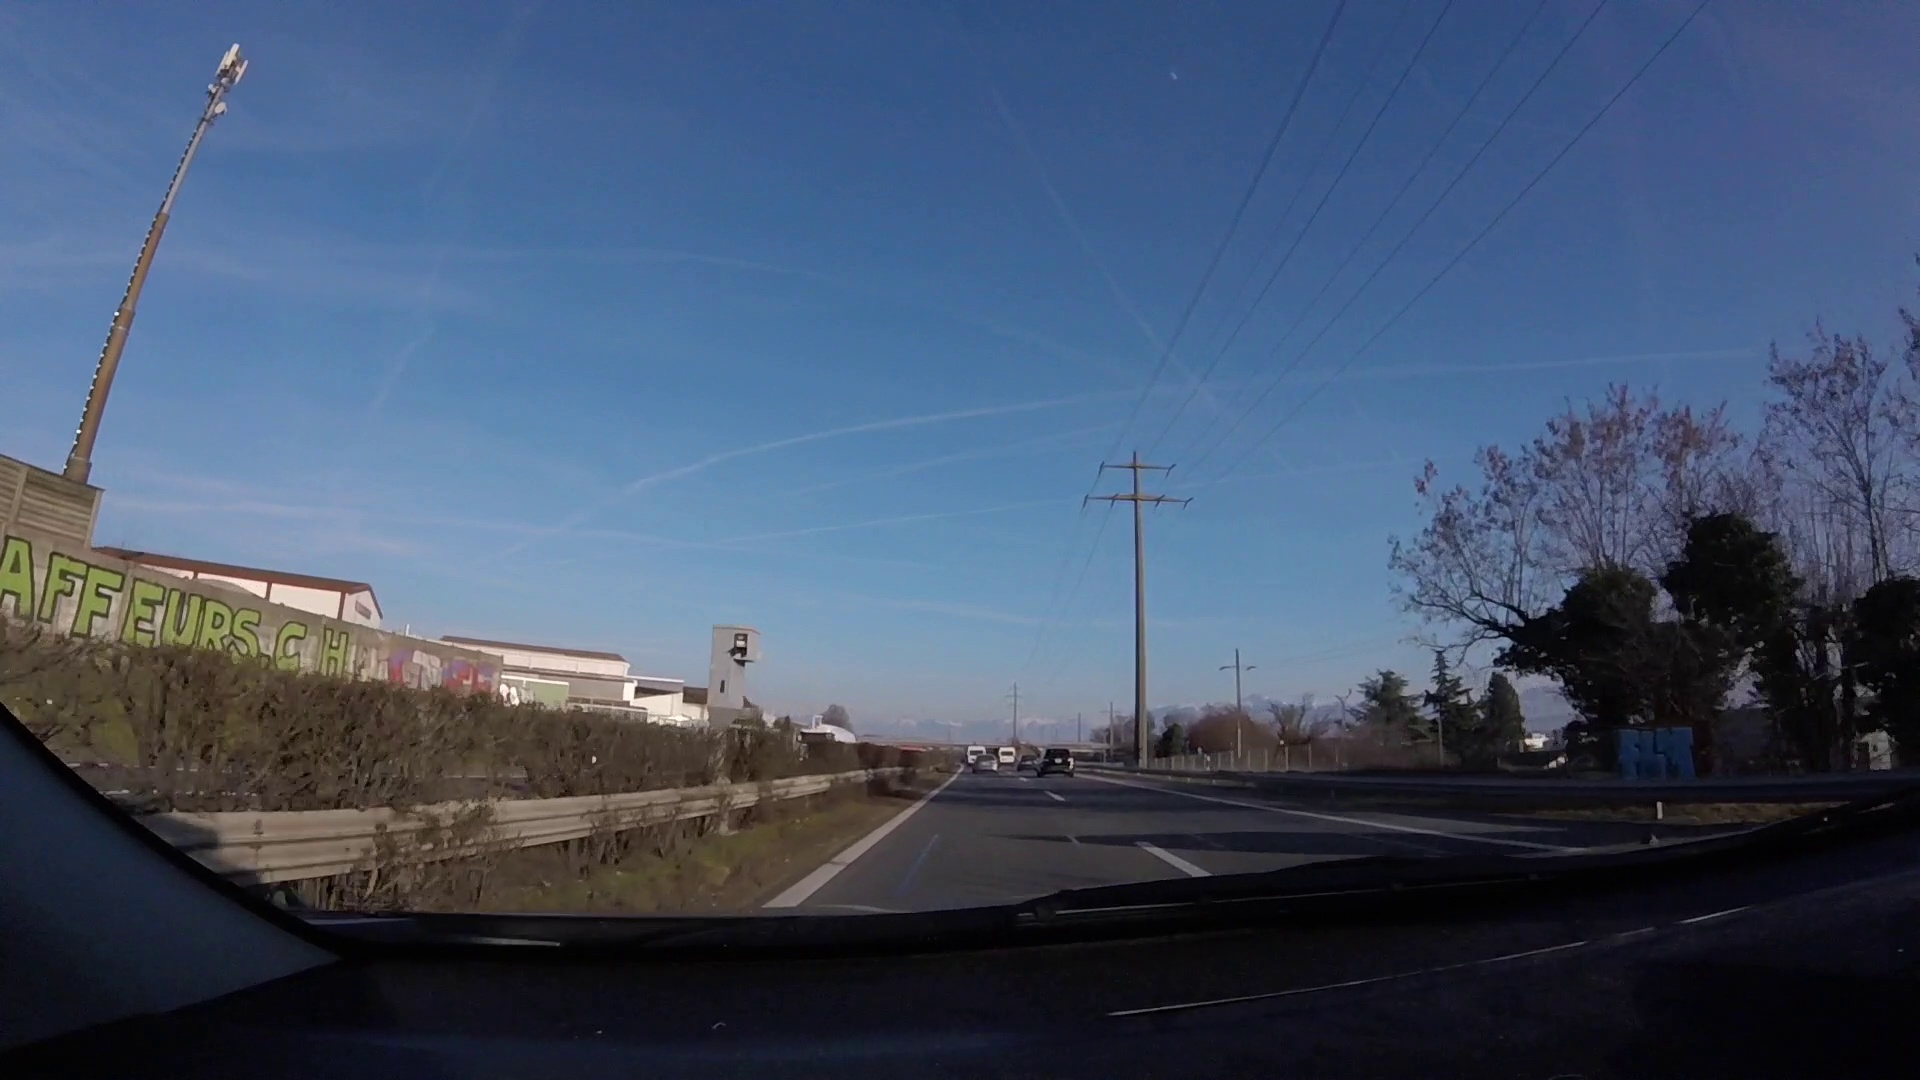radar: (705, 622, 765, 738)
